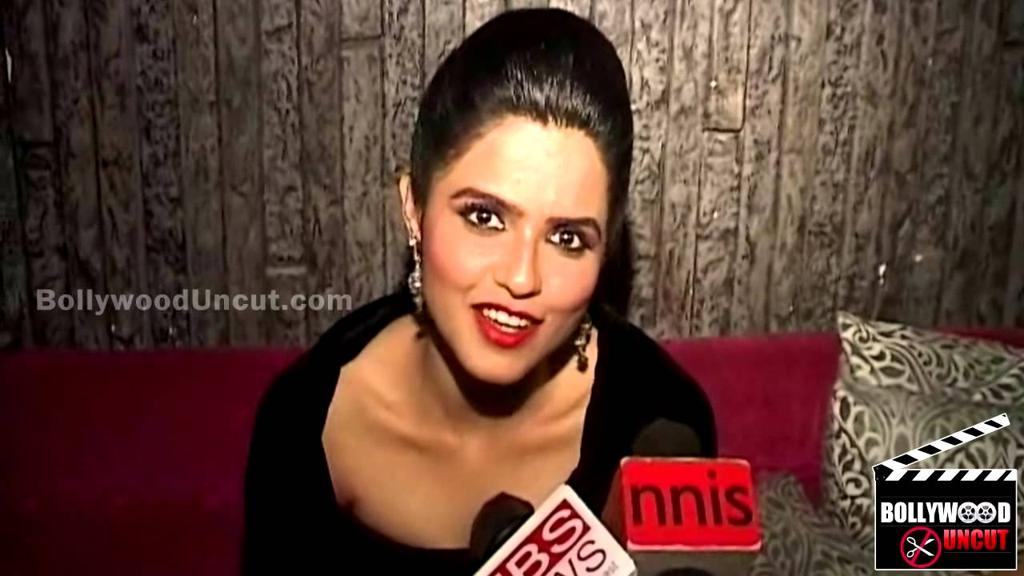face: (436, 128, 602, 382)
